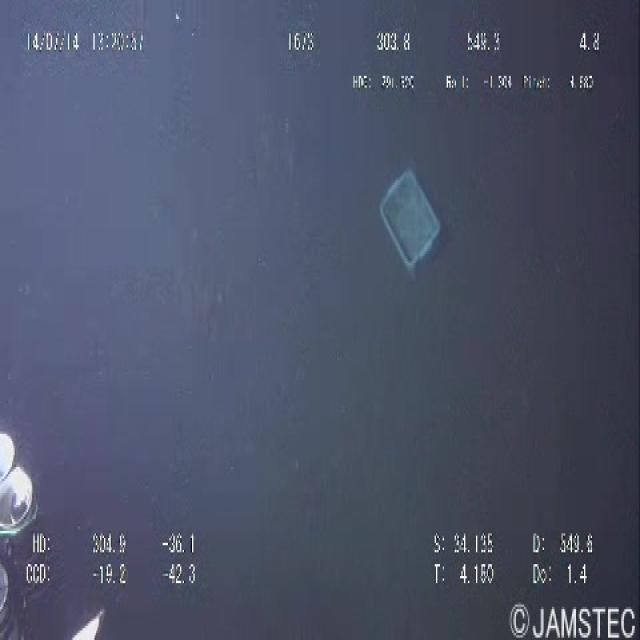plastic: (361, 140, 459, 296)
